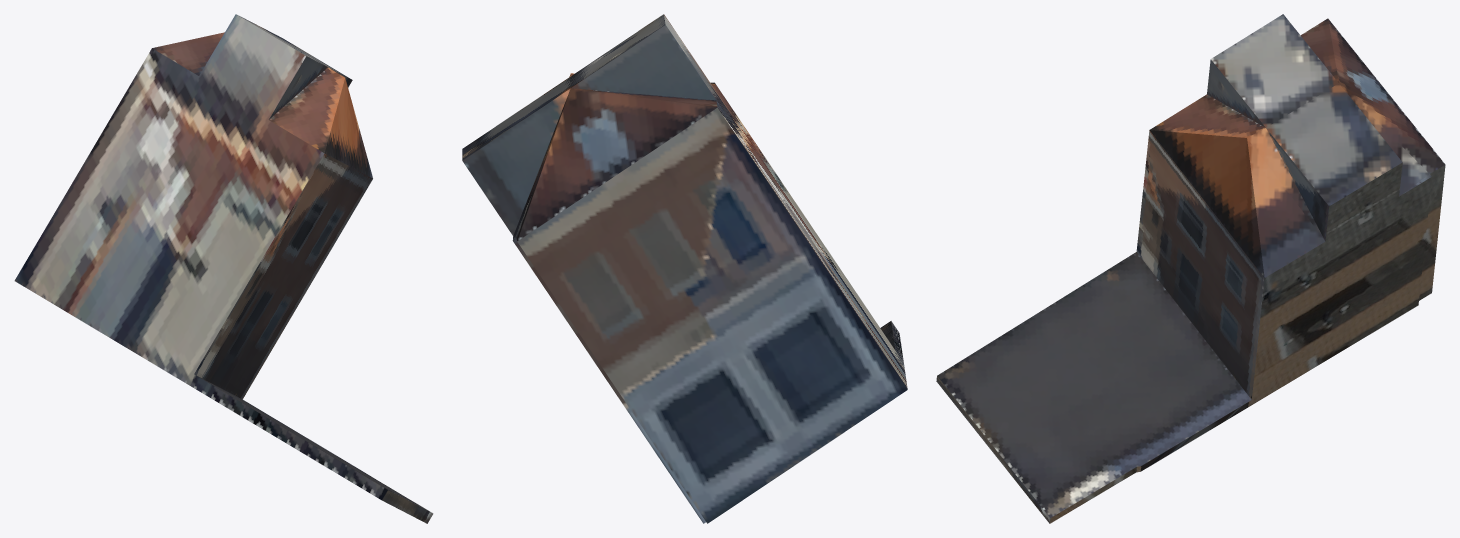
3 renders of one model, left to right at view 1: azimuth 30°, elevation 25°; view 2: azimuth 150°, elevation 25°; view 3: azimuth 270°, elevation 25°, orthographic. The views are drawn at different scales.
Parts seen in each view (by area): view 1: BAG_0599100000650095 (×4); view 2: BAG_0599100000650095 (×5); view 3: BAG_0599100000650095 (×4).
Part boxes in pixels (<box>): BAG_0599100000650095 (×4): <box>14,14,433,523</box>; BAG_0599100000650095 (×5): <box>462,14,907,523</box>; BAG_0599100000650095 (×4): <box>936,14,1445,523</box>.
Bounding box in the file's own units: 12.09 × 14.98 × 14.74.
1 material, 1 textured.
